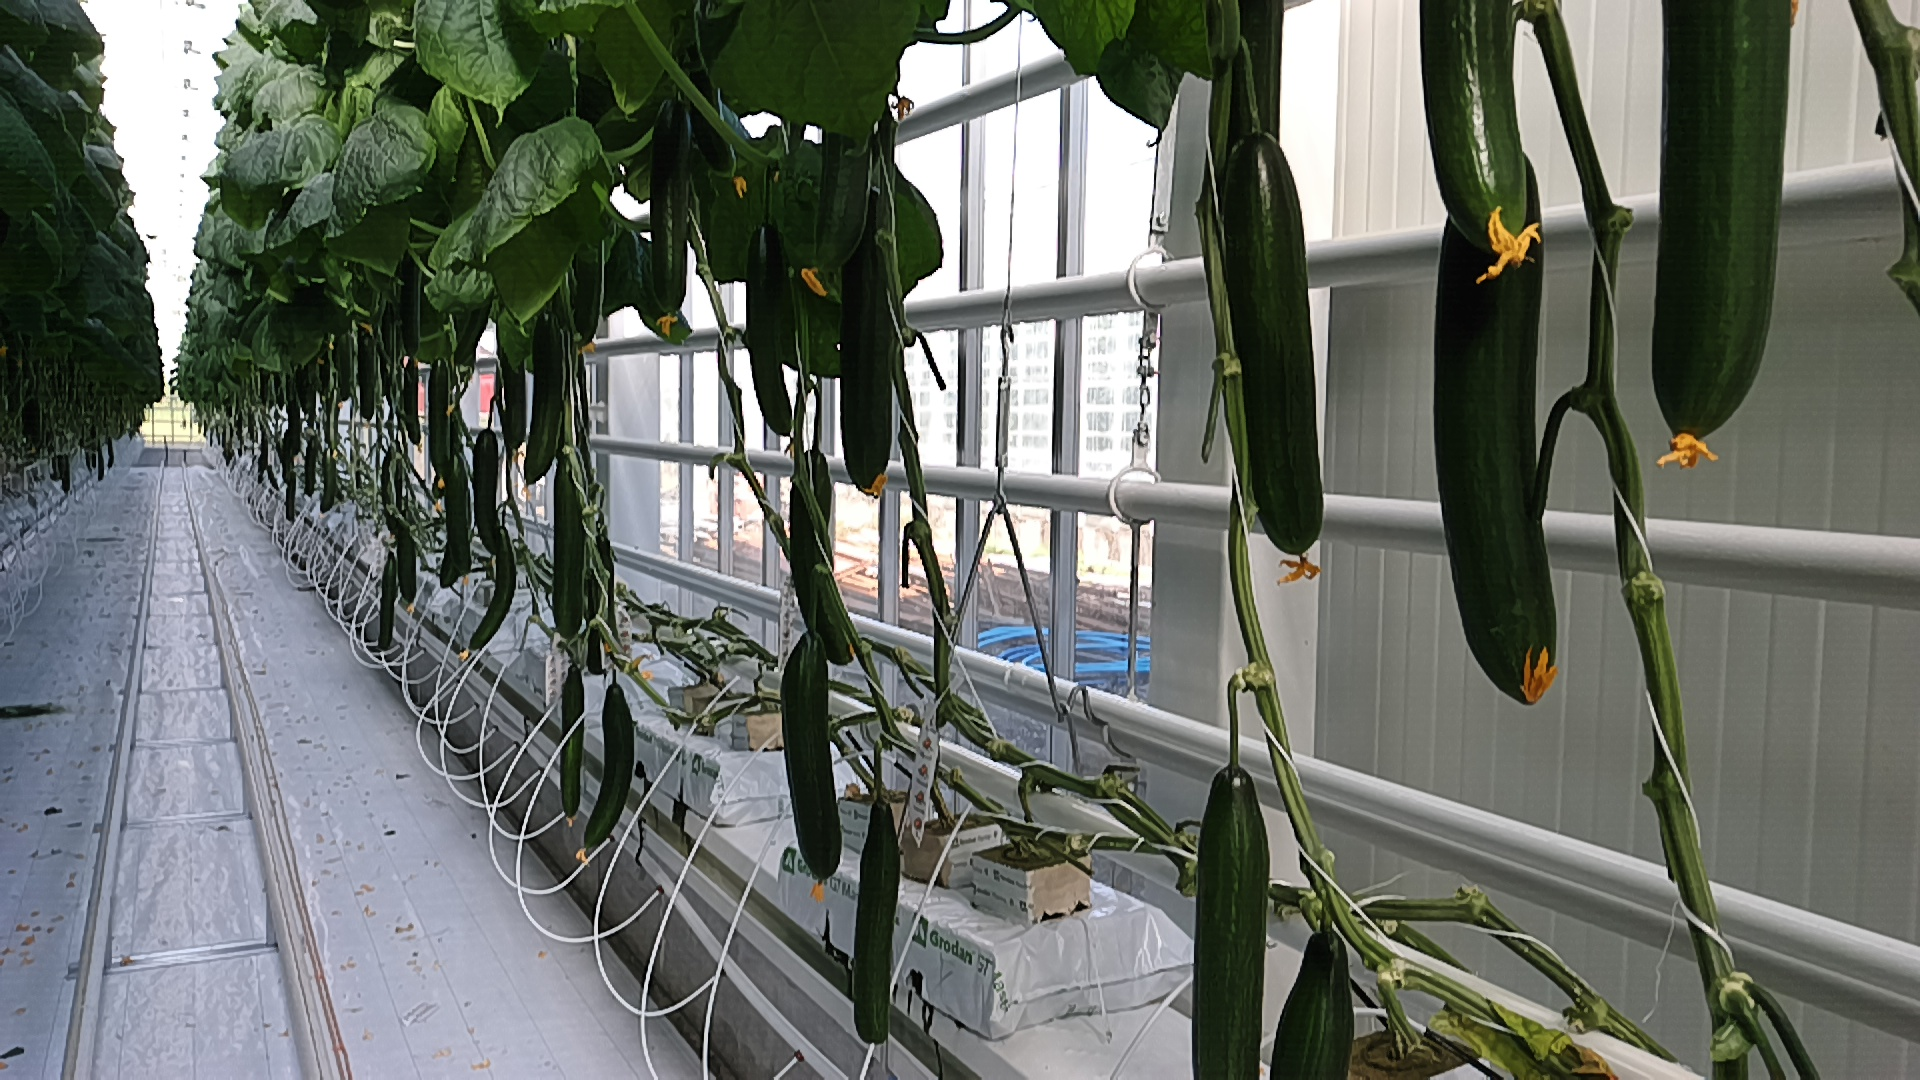gurka: (1428, 129, 1571, 723), (1205, 123, 1346, 562), (775, 626, 851, 893), (845, 793, 905, 1054), (465, 429, 517, 560), (554, 658, 592, 833)
